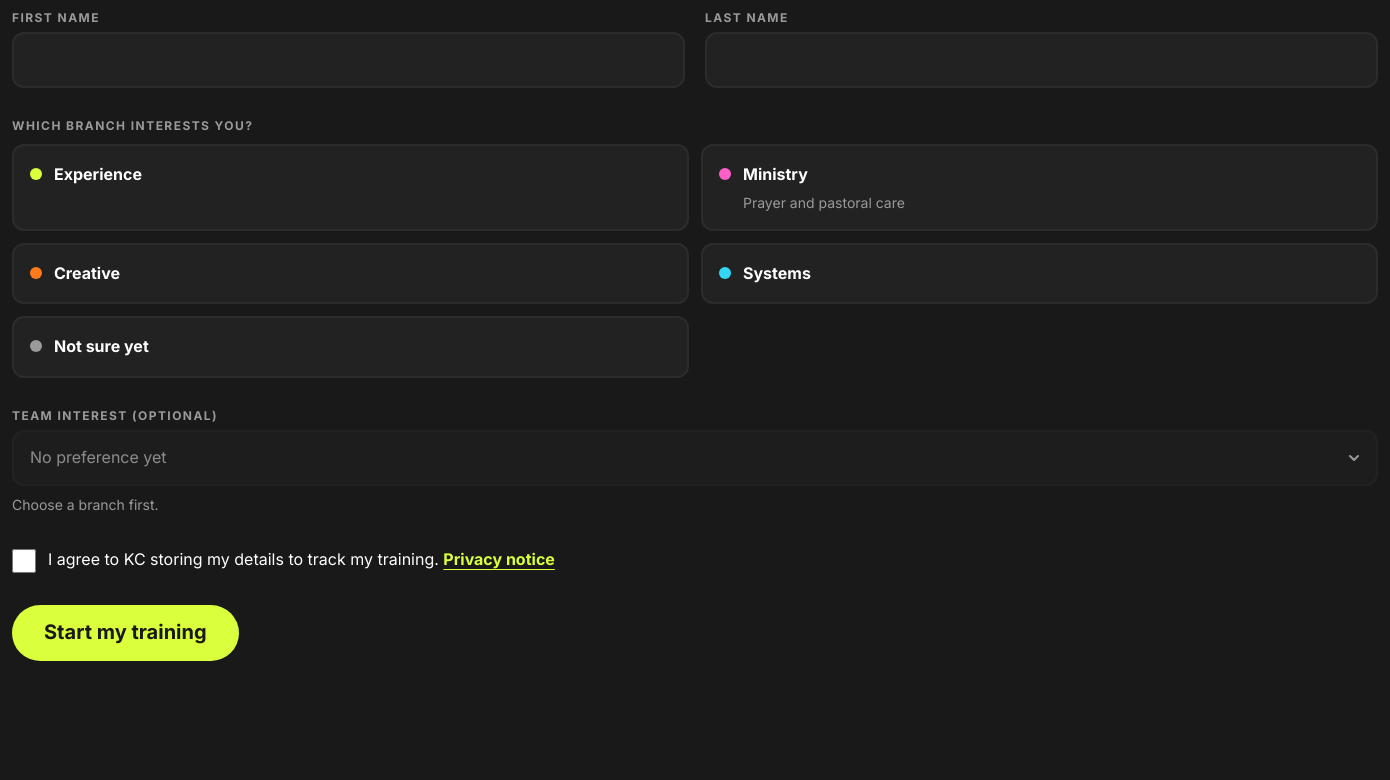
Test: OnboardingForm › shows server errors next to their fields and keeps values
Click the button "Start my training" at x=125, y=633, box [12,605,239,661]
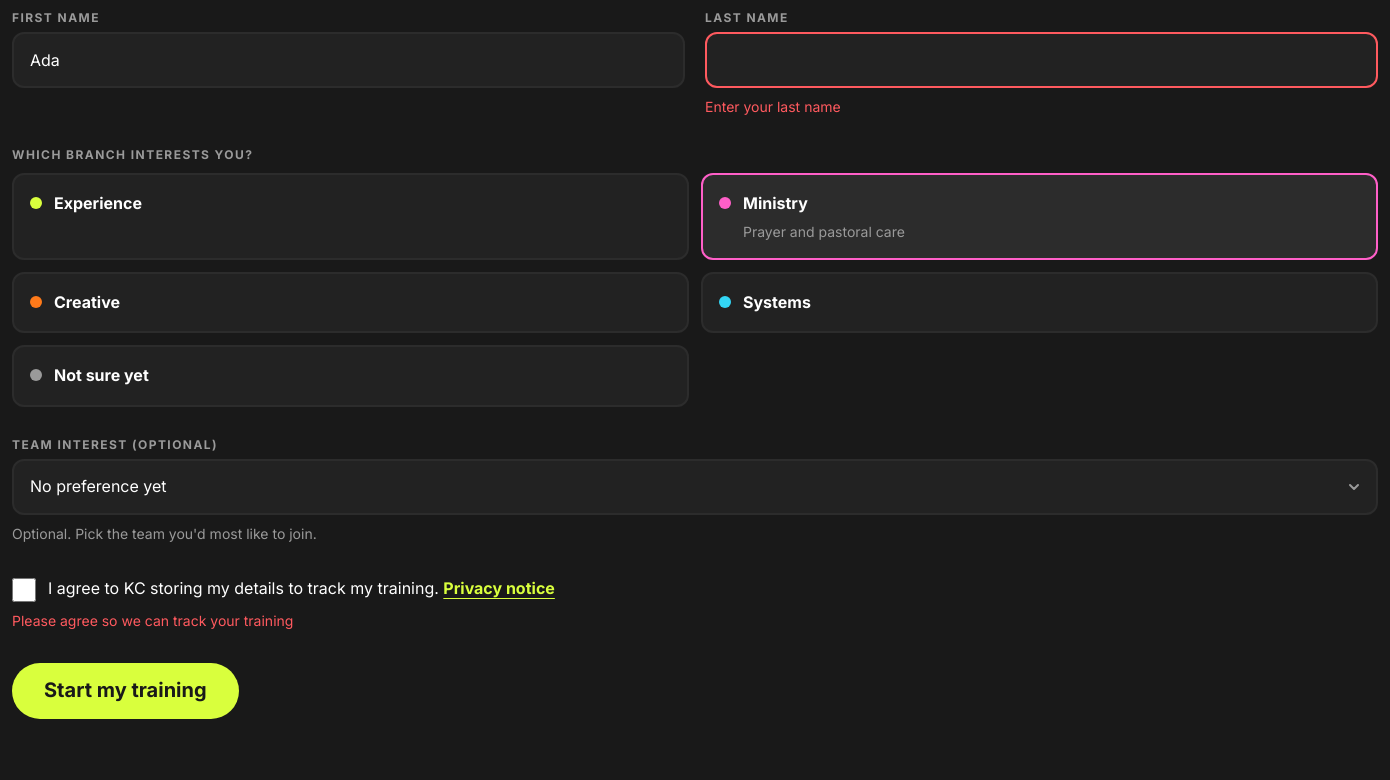
Expected: the text "Enter your last name" is shown, [705,98,841,115]
Expected: the field labelled "First name" holds "Ada", [12,32,685,88]
Expected: the radio button labelled "Ministry Prayer and pastoral care" is checked, [701,173,1378,260]
